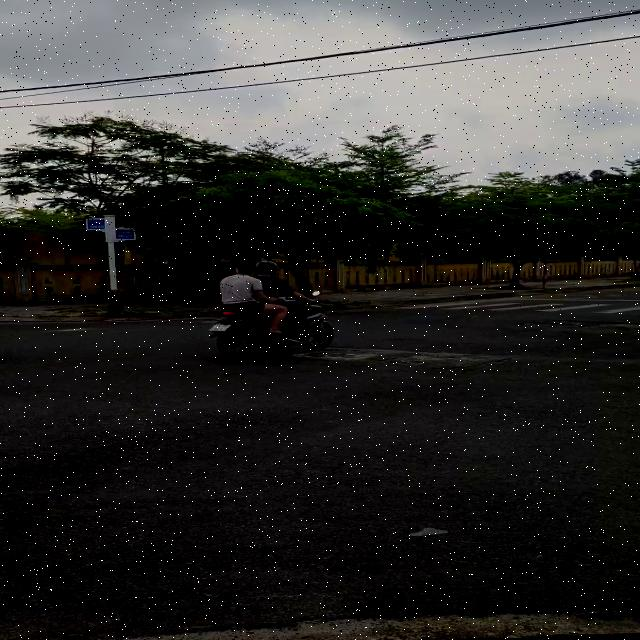helmet: (254, 260, 278, 274)
